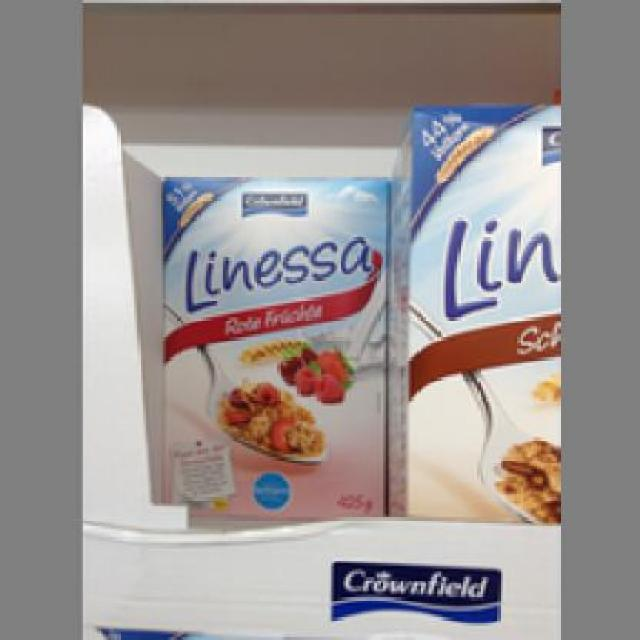Cereal: (156, 172, 390, 518), (394, 103, 557, 520)
